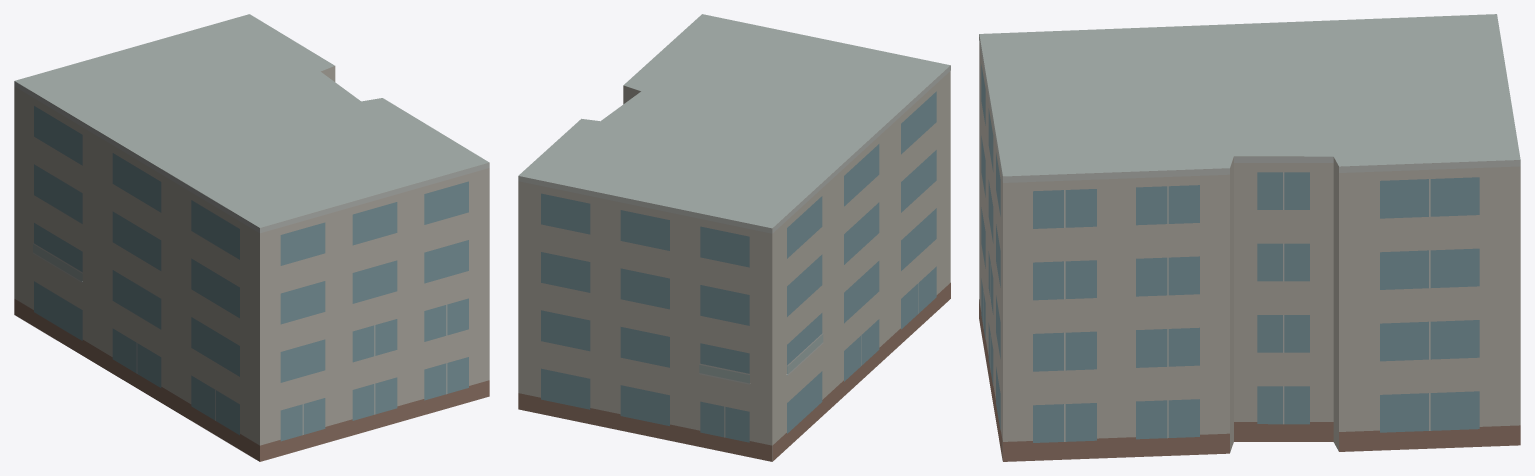
Rendered from survey-upis-32577419.glb.
3 renders of one model, left to right at view 1: azimuth 30°, elevation 25°; view 2: azimuth 150°, elevation 25°; view 3: azimuth 270°, elevation 25°, orthographic. The views are drawn at different scales.
Visible parts, largest first — view 1: survey-upis-32577419.tmp; view 2: survey-upis-32577419.tmp; view 3: survey-upis-32577419.tmp.
Boxes of the visible parts, x1,y1,x2,y2 form: survey-upis-32577419.tmp: (14, 14, 489, 461); survey-upis-32577419.tmp: (518, 14, 950, 461); survey-upis-32577419.tmp: (979, 14, 1520, 461).
Bounding box in the file's own units: 12.95 × 10.6 × 18.23.
